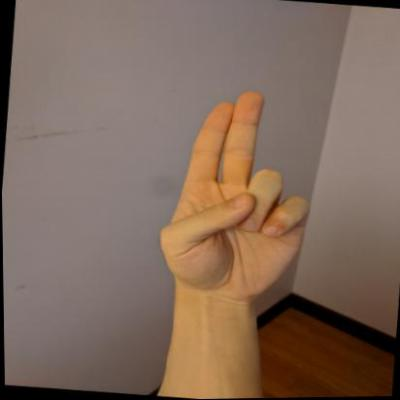hand: (148, 81, 324, 309)
